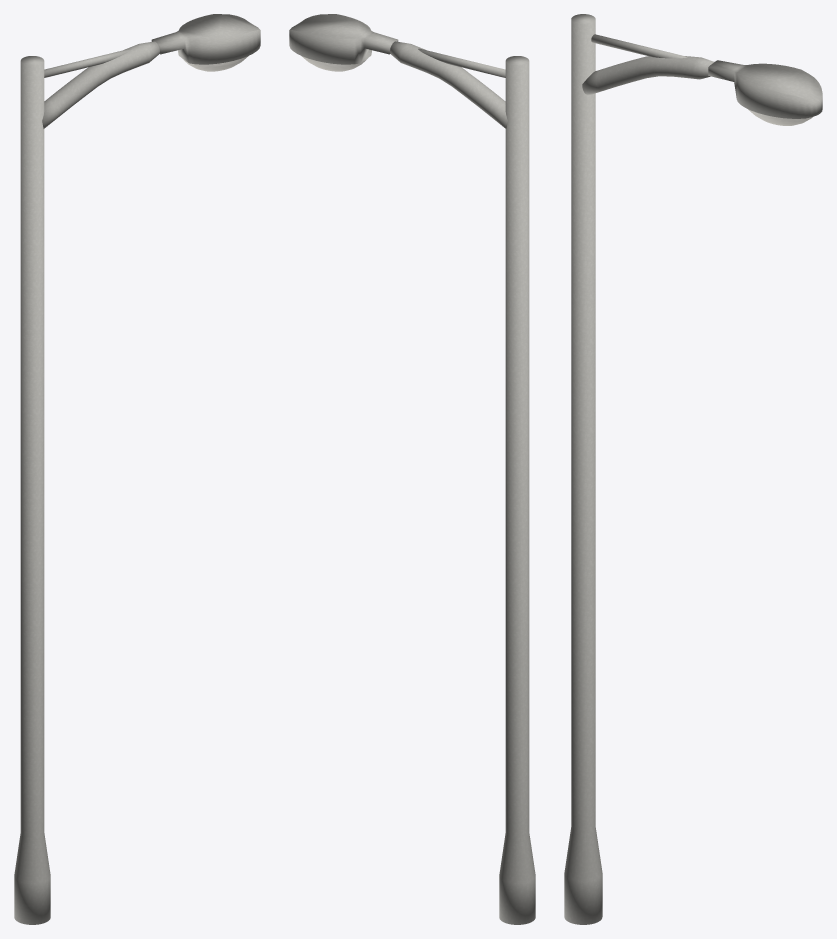
File: street_lamp.glb
3 views of the same model, side by side, from view 1: azimuth 30°, elevation 25°; view 2: azimuth 150°, elevation 25°; view 3: azimuth 330°, elevation 25° (orthographic). The views are drawn at different scales.
Parts seen in each view (by area): view 1: Cylinder; view 2: Cylinder; view 3: Cylinder.
Boxes of the visible parts, x1,y1,x2,y2 form: Cylinder: [14, 14, 260, 924]; Cylinder: [289, 14, 535, 924]; Cylinder: [564, 14, 822, 924].
Size of the model in its own units: 5.98 by 20.24 by 1.18.
3 materials, 2 textured.
